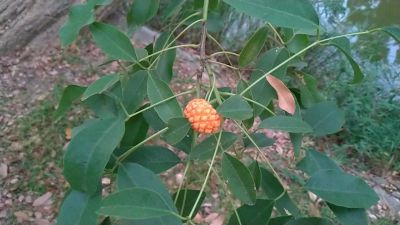eggs: (185, 96, 218, 135)
